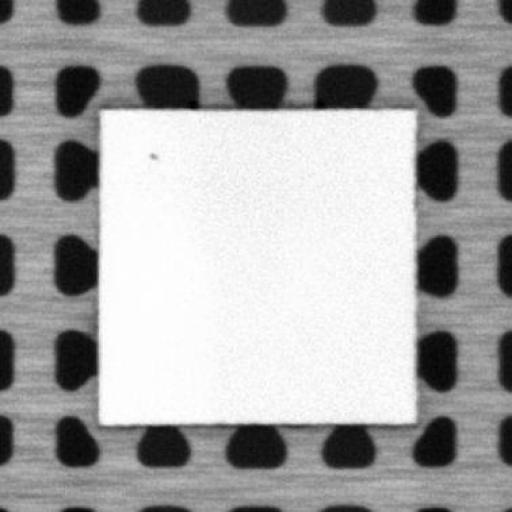DIE_INK: (145, 148, 157, 160)
